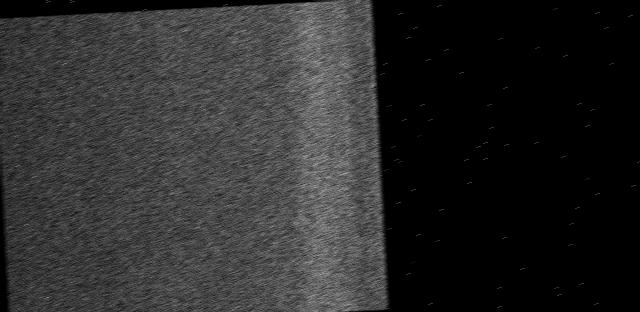silk_spot: (228, 48, 306, 266)
